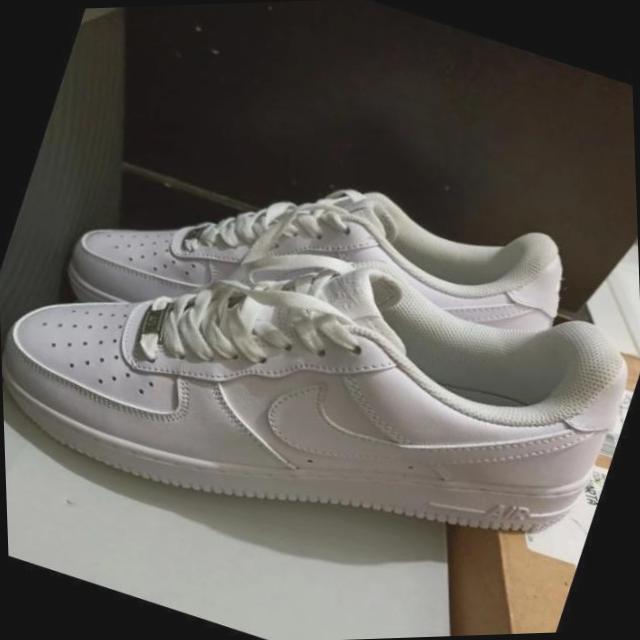nike_original_airforce: (0, 132, 640, 629), (0, 61, 595, 451)
